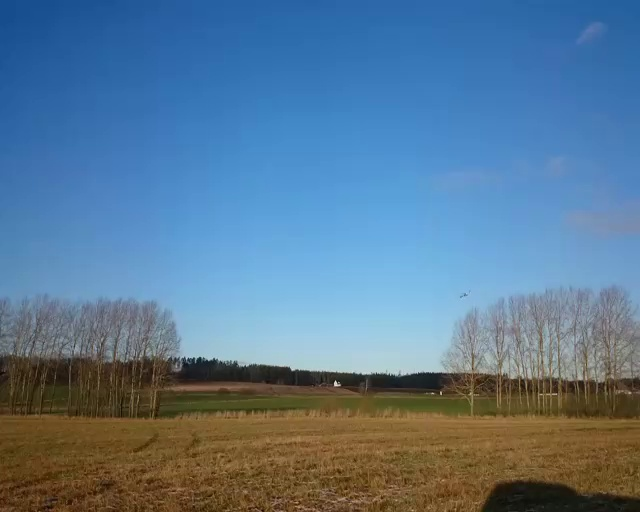DRONE: (460, 290, 470, 298)
